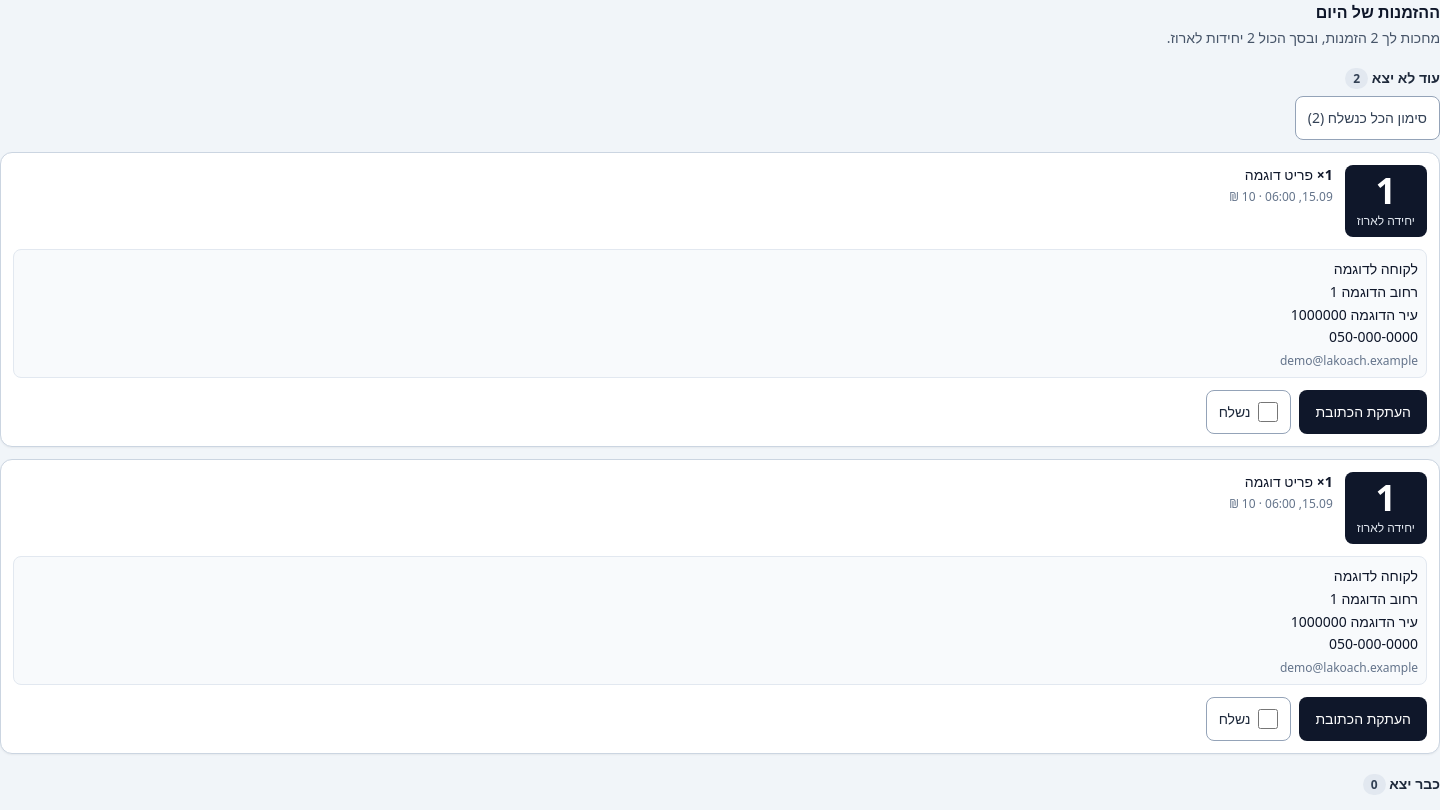
★★ אישור דו-שלבי › "ביטול" מחזיר לכפתור אחד, בלי שום קריאה
The image size is (1440, 810).
Step 1. Click the button "סימון הכל כנשלח (2)" → (1367, 118), box [1295,96,1439,140]
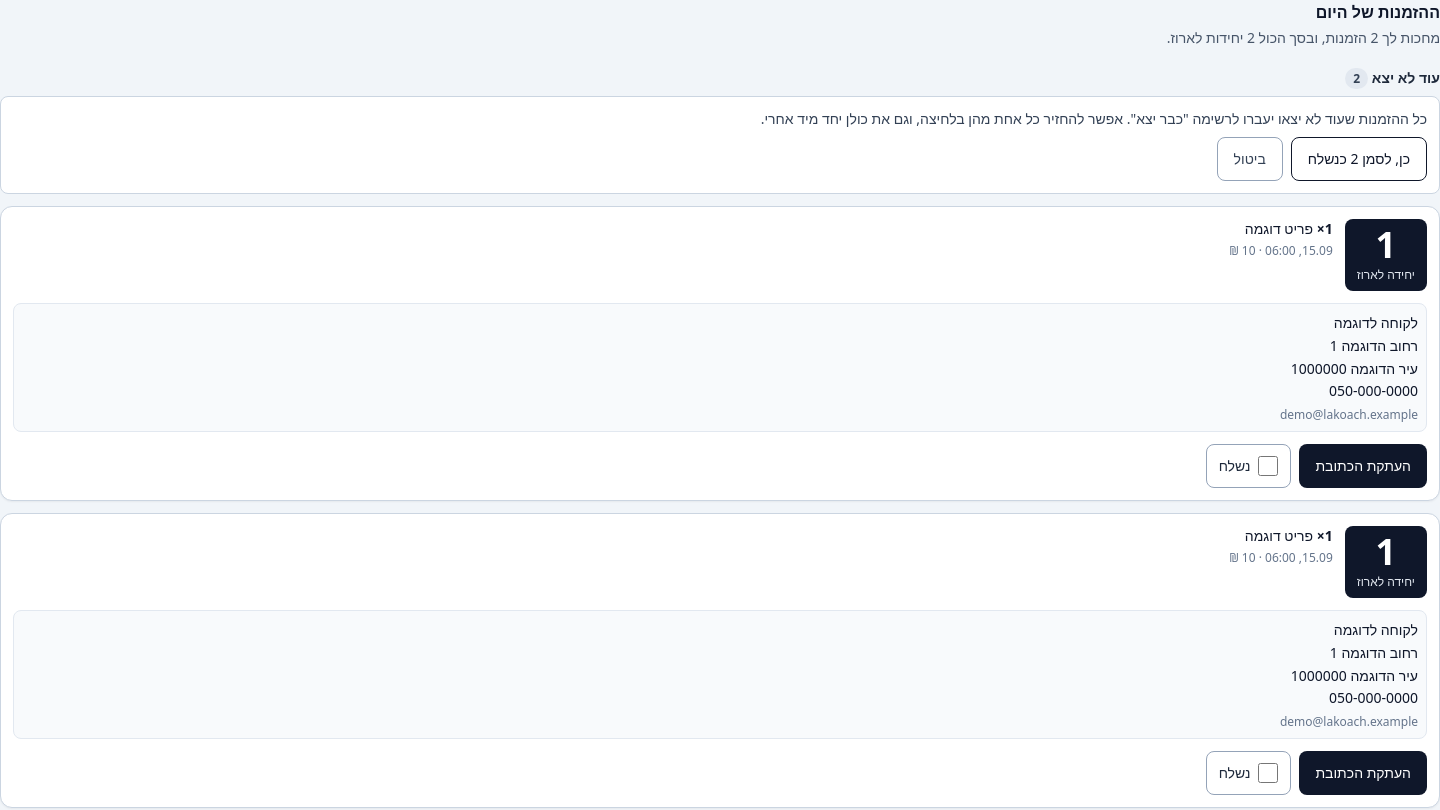
Step 2. Click the button "ביטול" → (1250, 159), box [1217,137,1283,181]
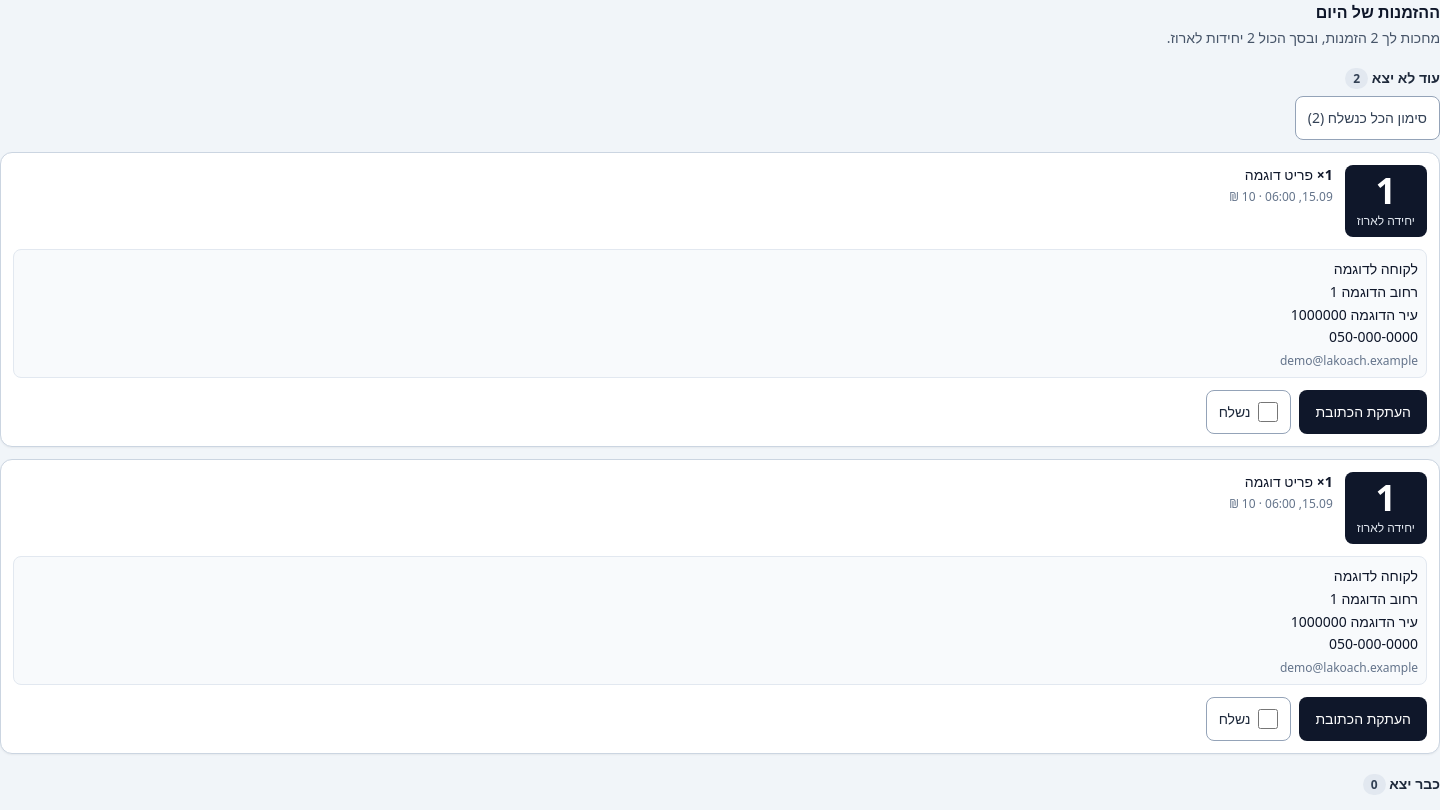
Expected: the text "כל ההזמנות שעוד לא יצאו יעברו לרשימה \"כבר יצא\". אפשר להחזיר כל אחת מהן בלחיצה, וגם את כולן יחד מיד אחרי." is gone
Expected: the button "סימון הכל כנשלח (2)" is shown, [1295,96,1439,140]
